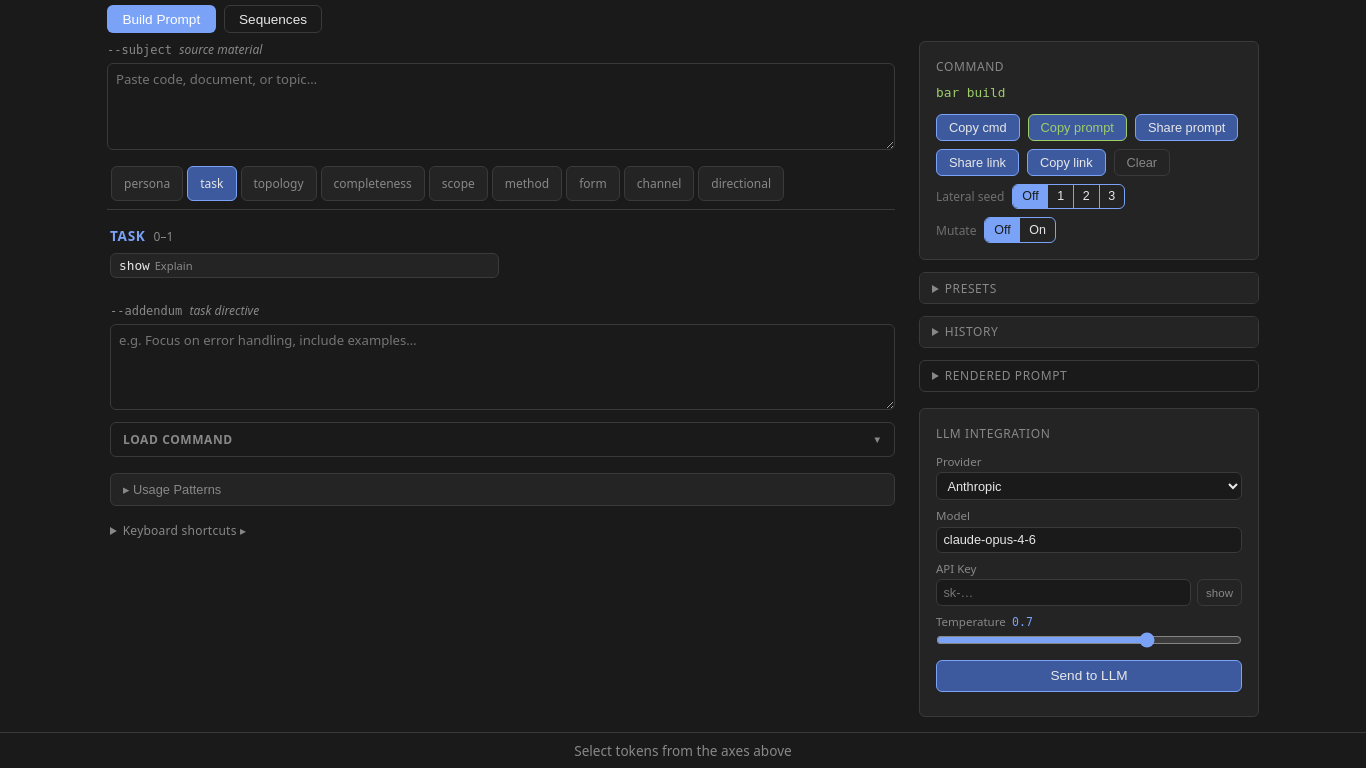
Test case: Page — Touch Targets and iOS Zoom › load-cmd-input exists and is an input element
The image size is (1366, 768).
(page scrolled)
Note: Open the load-cmd section first
Click the button with class "load-cmd-toggle" at {"x": 178, "y": 440}, box [111,423,894,456]
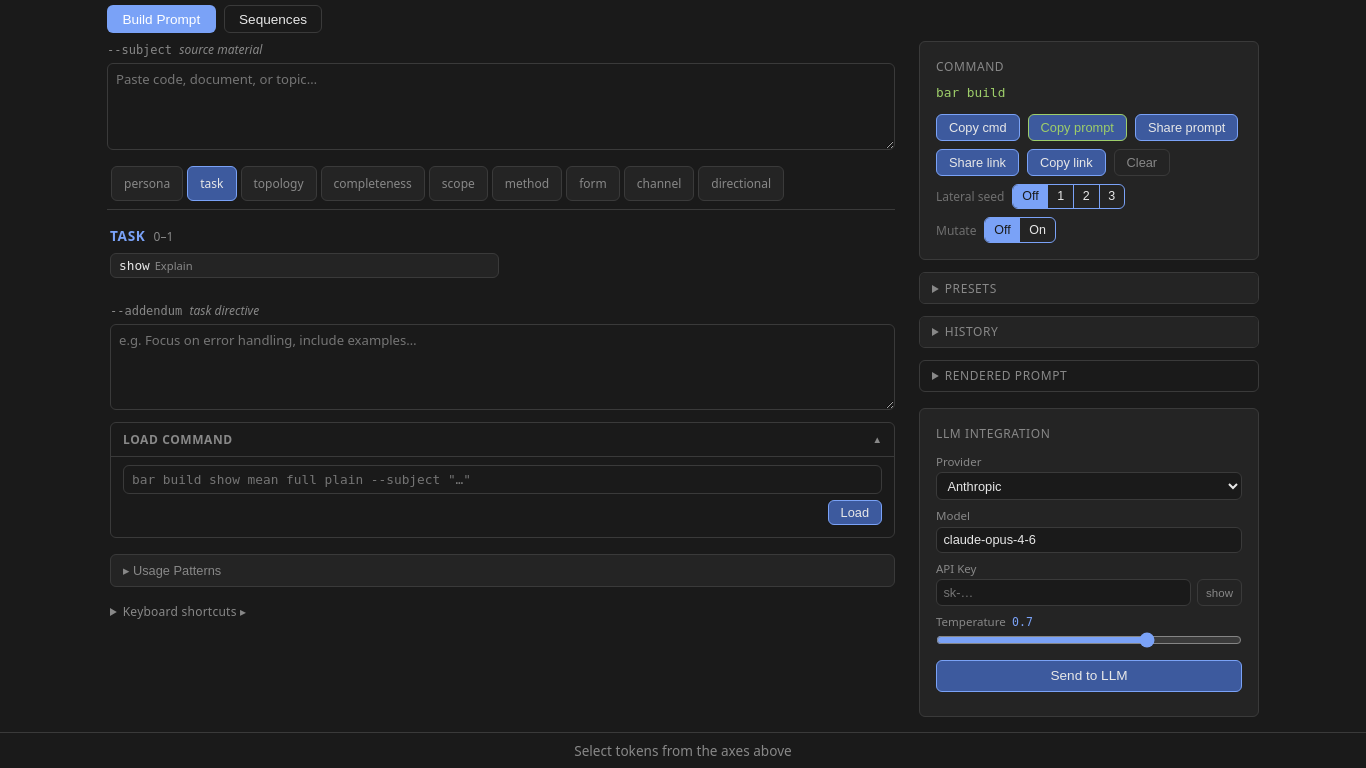
Result: the field with class "load-cmd-input" is shown at [123,465,882,494]
